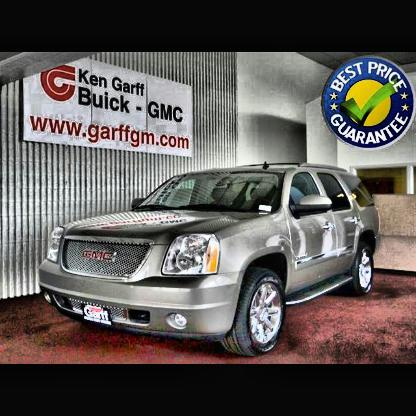GMC Yukon Hybrid SUV 2012: (40, 163, 383, 356)
